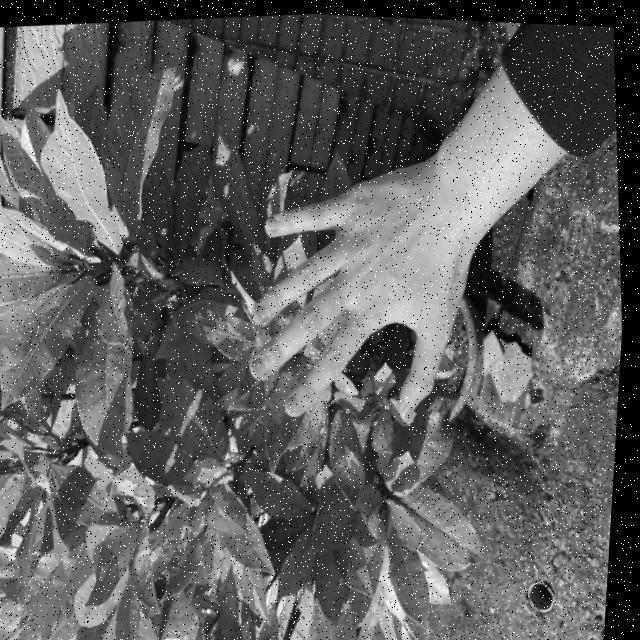no-gloves: (230, 154, 487, 436)
